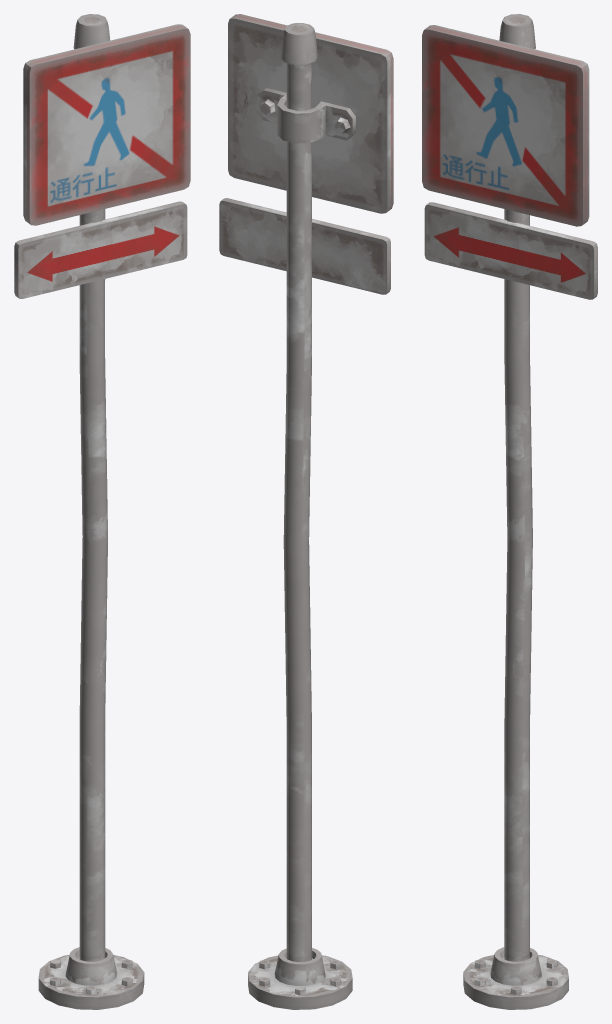
File: SM_roadsign_05.fbx
The picture shows the model from 3 angles, left to right: view 1: azimuth 30°, elevation 25°; view 2: azimuth 150°, elevation 25°; view 3: azimuth 330°, elevation 25°; orthographic projection.
Visible parts, largest first — view 1: Object32303; view 2: Object32303; view 3: Object32303.
Boxes of the visible parts, <box> form: Object32303: <box>14,14,190,1009</box>; Object32303: <box>219,14,393,1009</box>; Object32303: <box>422,14,597,1009</box>.
Bounding box in the file's own units: 20.86 × 114 × 11.39.
